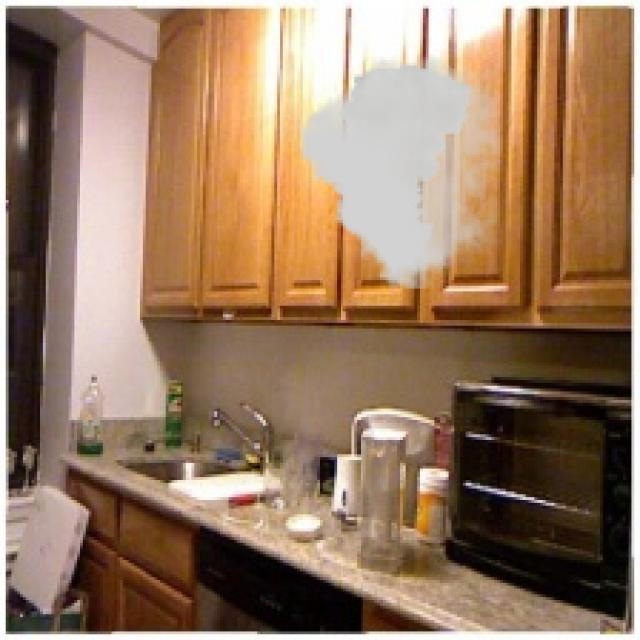Smoke: (300, 54, 503, 289)
